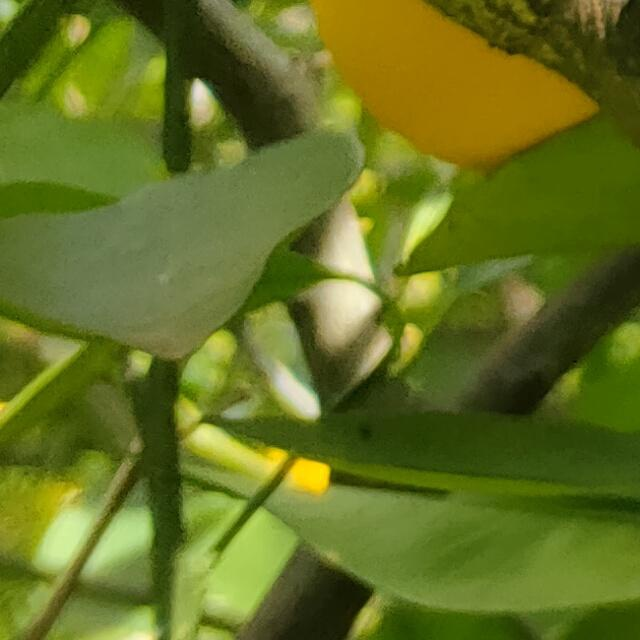orange: (285, 0, 640, 192)
